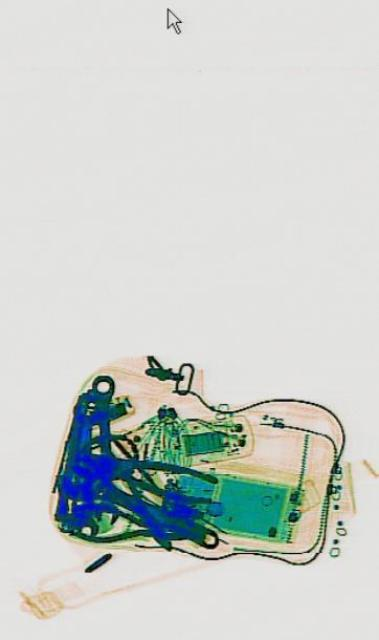Pliers: (80, 440, 217, 510)
Wrench: (54, 446, 221, 564), (88, 372, 117, 524), (71, 400, 96, 536)
